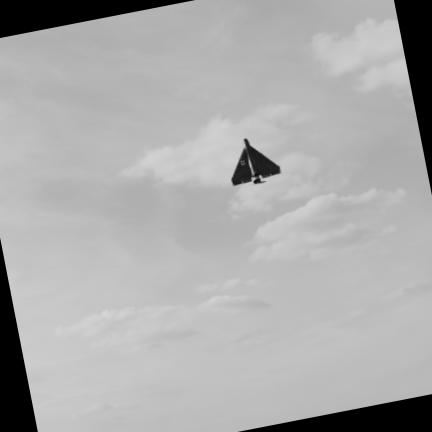Shahed: (231, 140, 280, 184)
